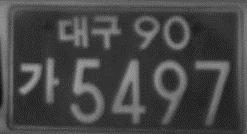0: (161, 14, 191, 50)
4: (109, 58, 148, 126)
5: (69, 56, 105, 124)
7: (193, 58, 231, 126)
9: (152, 58, 189, 125), (133, 14, 160, 50)
가: (17, 55, 60, 105)
대구_O: (55, 13, 123, 49)
